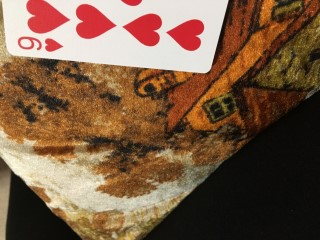NineOfHearts: (2, 1, 229, 74)
